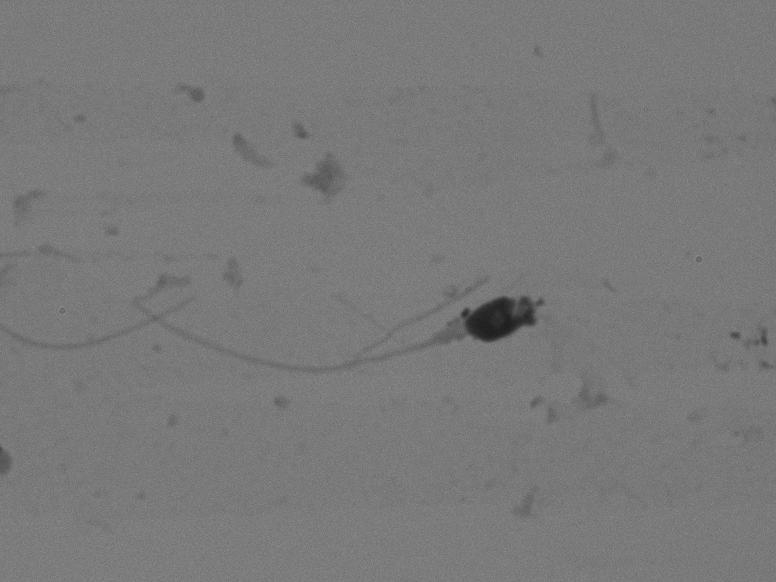Abnormal: (134, 206, 575, 420)
